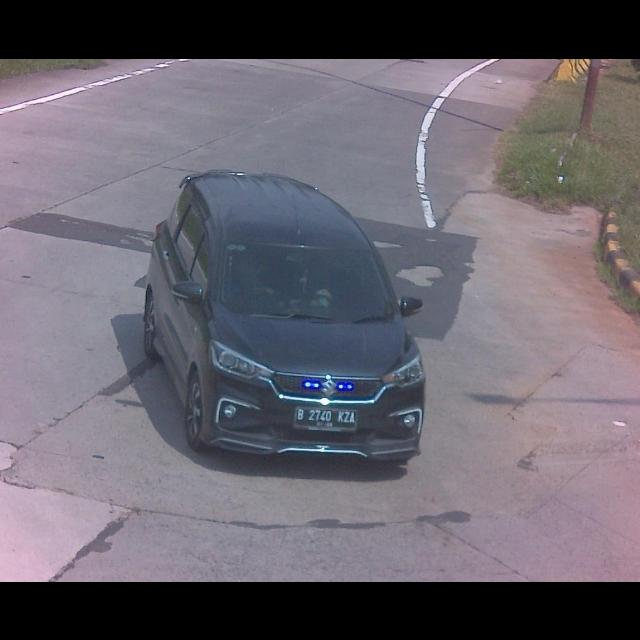plate: (292, 406, 360, 432)
